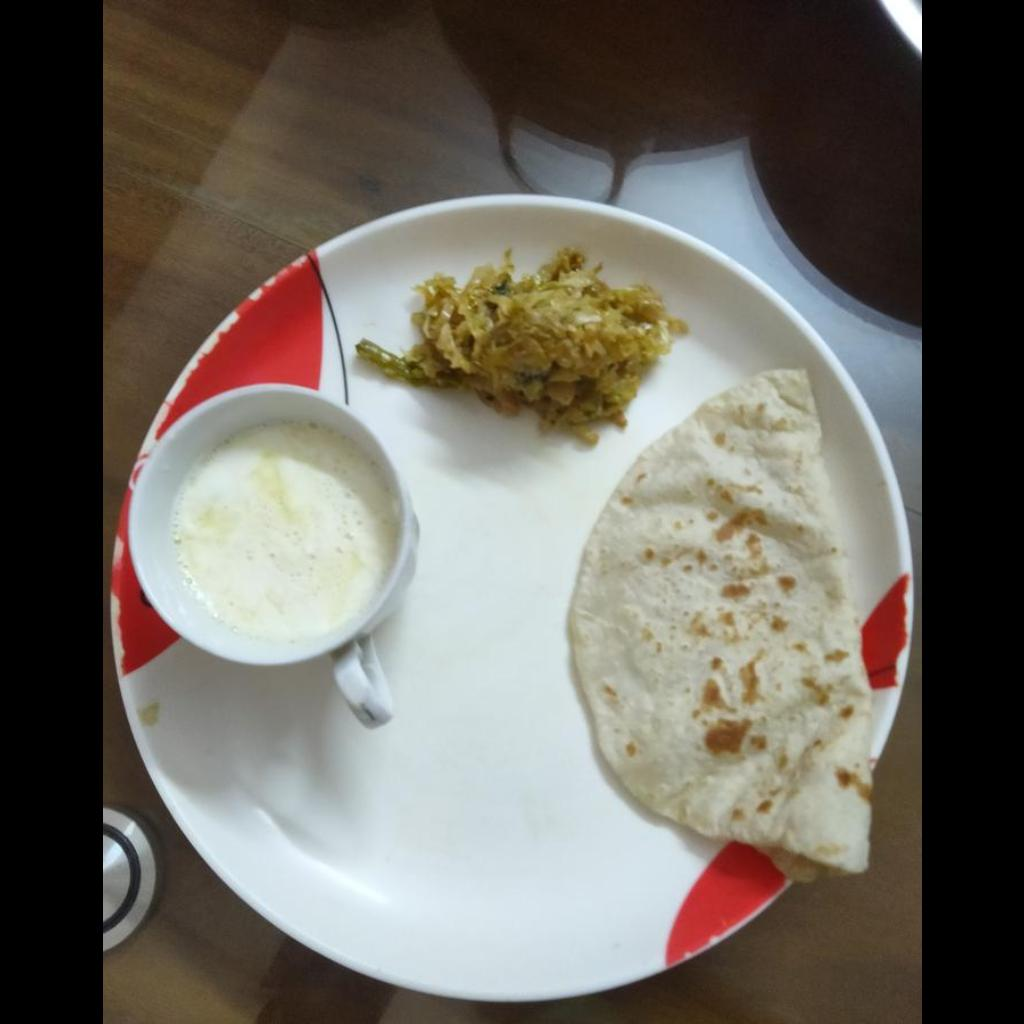milk: (171, 424, 387, 638)
ruti: (568, 367, 871, 878)
vaji: (403, 242, 679, 437)
